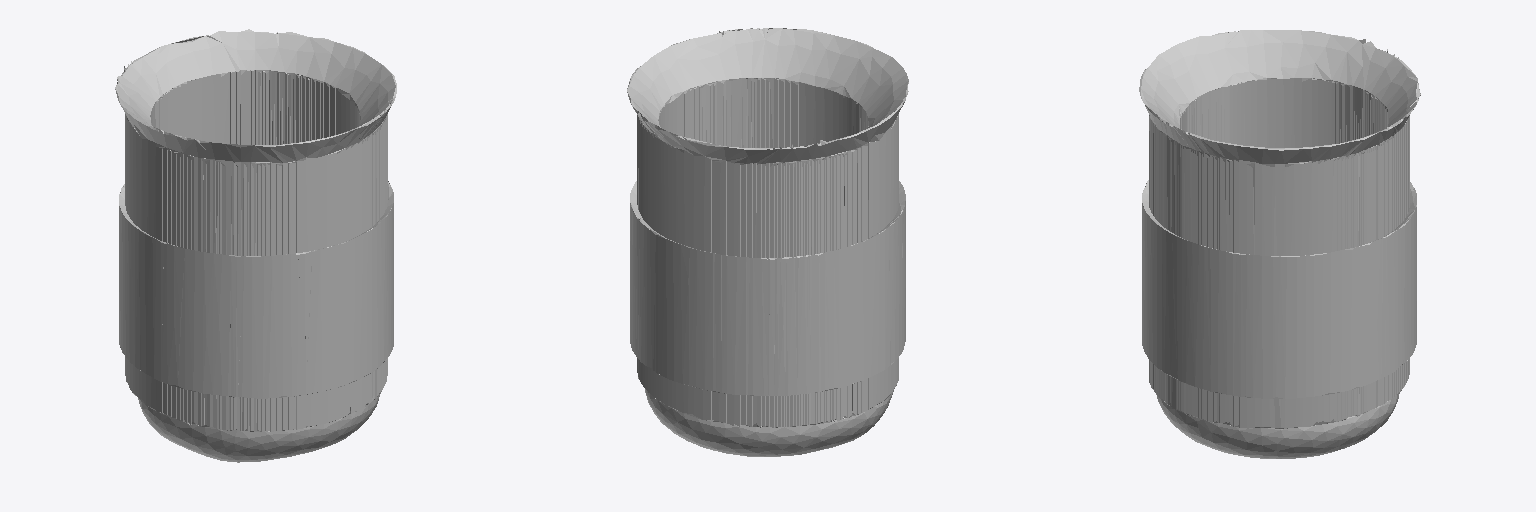
The model's file is cafeCup.obj.
The picture shows the model from 3 angles: view 1: azimuth 30°, elevation 25°; view 2: azimuth 150°, elevation 25°; view 3: azimuth 270°, elevation 25°; orthographic projection.
Visible parts, largest first — view 1: model_2, model_0; view 2: model_2, model_0; view 3: model_2, model_0.
Part boxes in pixels (x1,y1,x2,y2): model_2: (115,29,396,431); model_0: (119,181,393,462); model_2: (627,28,908,427); model_0: (630,181,905,456); model_2: (1139,30,1420,428); model_0: (1142,180,1416,458).
Size of the model in its own units: 129 by 174 by 130.